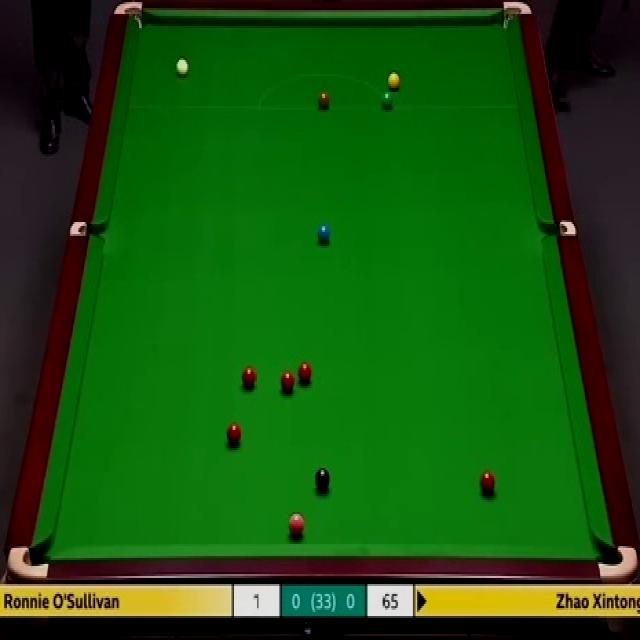pocket: (6, 542, 52, 582), (595, 543, 637, 582), (500, 0, 532, 32), (112, 0, 146, 29), (540, 218, 577, 237), (66, 222, 102, 238)
